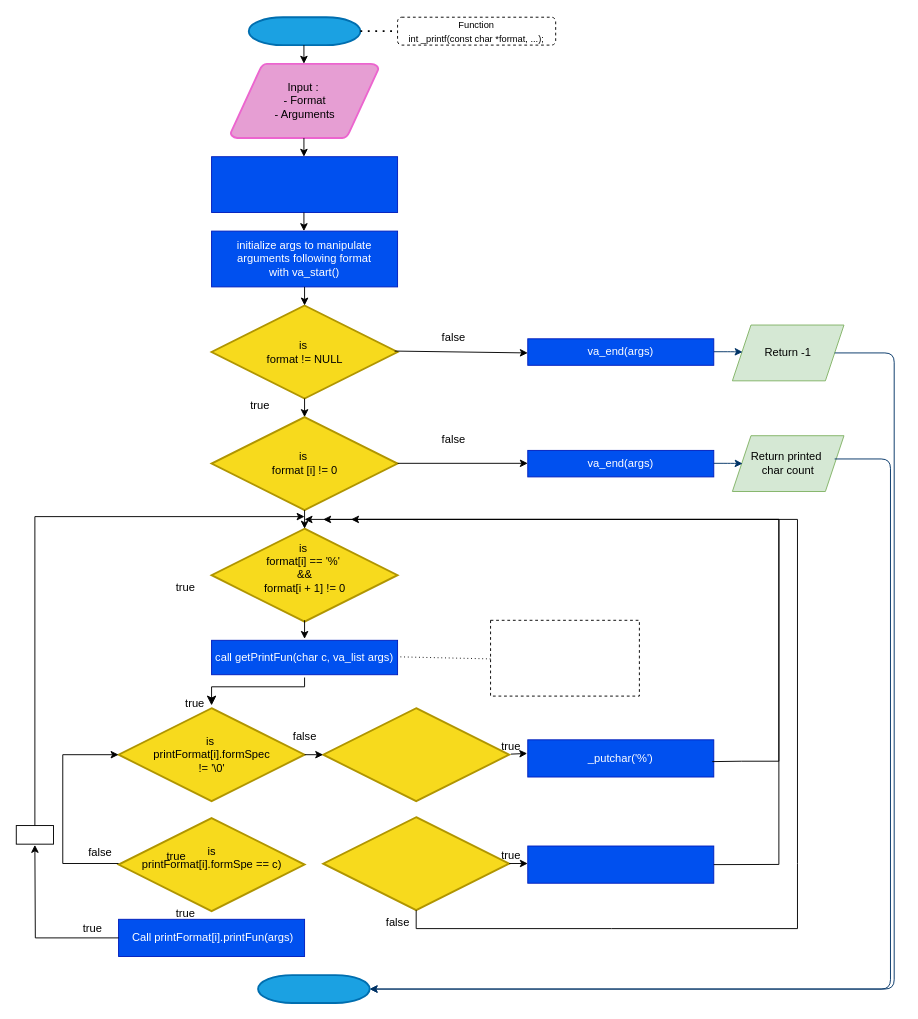
This 918x1019 diagram has some shape labels left out. The centre of each missing label's shape, as x and y in pixels:
"_putchar('%'c)" belongs at pixel 620 864.
"else" belongs at pixel 416 863.
"end" belongs at pixel 313 988.
"i++" belongs at pixel 34 834.
"instanciate argument list as va_list args;" belongs at pixel 304 184.
"is c == '%'" belongs at pixel 416 754.
"printForm_t printFormat[] = { char formSpec; int (*printfun)(va_list args); }" belongs at pixel 564 657.
"start" belongs at pixel 304 31.
